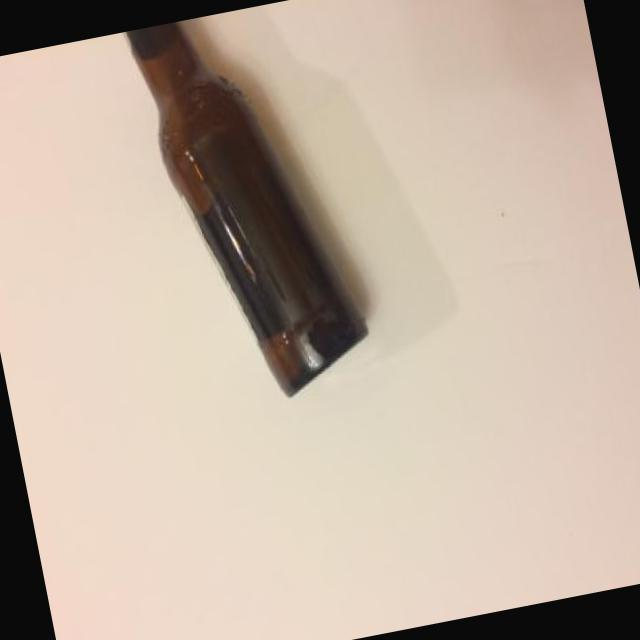chai_thuy_tinh: (124, 21, 371, 398)
